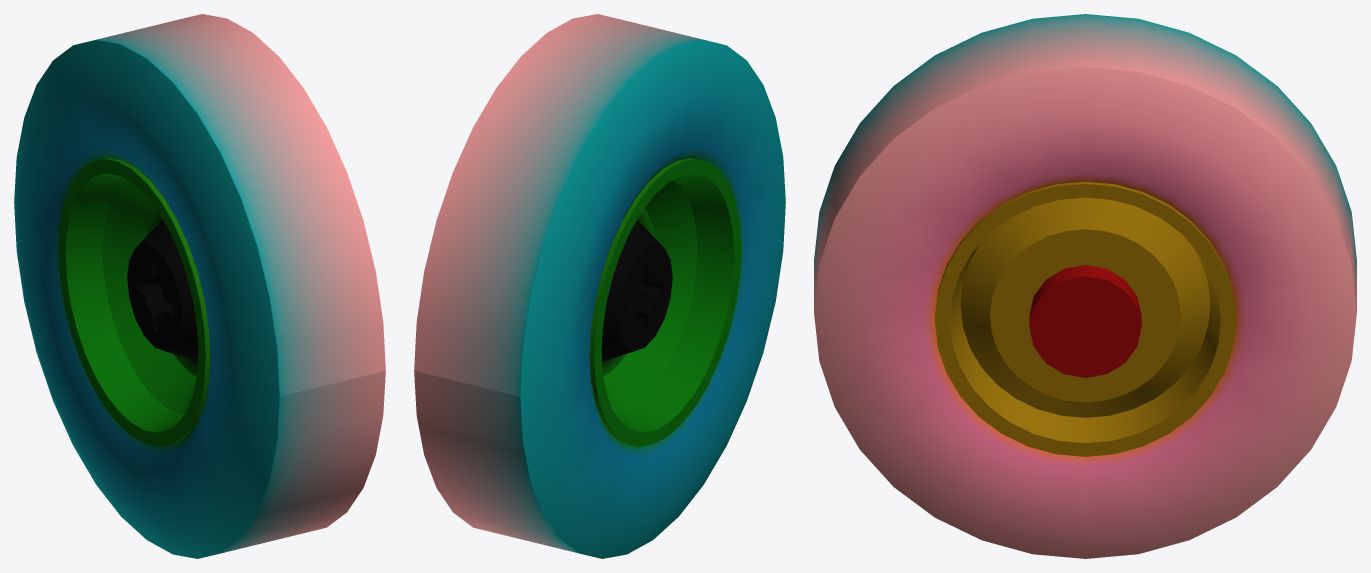
The model's file is SM_Wheel_10sx1.gltf.
3 views of the same model, side by side, from view 1: azimuth 30°, elevation 25°; view 2: azimuth 150°, elevation 25°; view 3: azimuth 270°, elevation 25° (orthographic). The views are drawn at different scales.
Visible parts, largest first — view 1: SM_Wheel_10sx1; view 2: SM_Wheel_10sx1; view 3: SM_Wheel_10sx1.
Boxes of the visible parts, x1,y1,x2,y2 form: SM_Wheel_10sx1: [14, 14, 385, 558]; SM_Wheel_10sx1: [414, 14, 785, 558]; SM_Wheel_10sx1: [814, 14, 1356, 558].
Size of the model in its own units: 0.3388 by 1.01 by 1.01.
